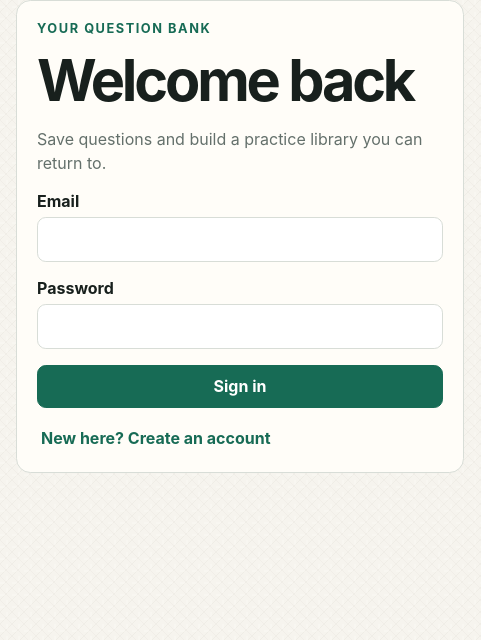
Test case: signs up and shows the confirmation state without a session
Click the button "New here? Create an account": (156, 438) [37,424,274,452]
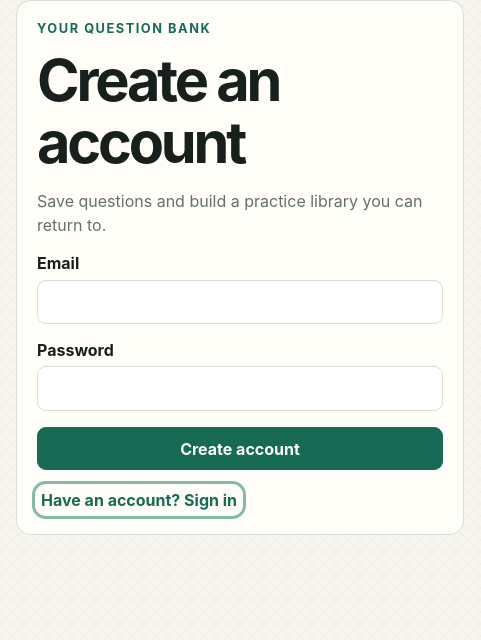
In the field labelled "Email": (240, 302) [37,280,443,324], type "person@example.com"
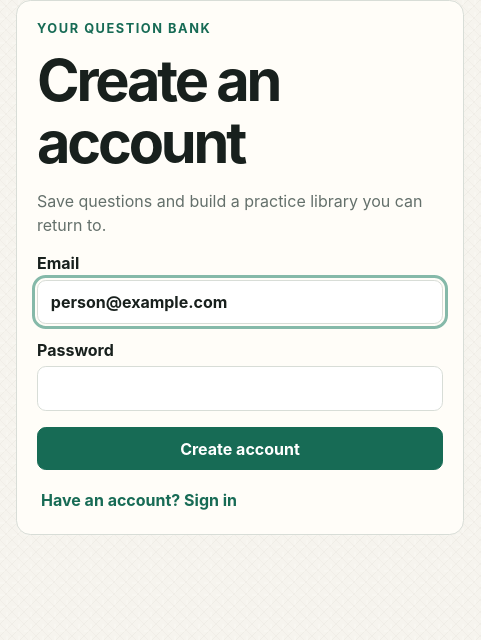
In the password field labelled "Password": (240, 388) [37,366,443,411], type "secret123"
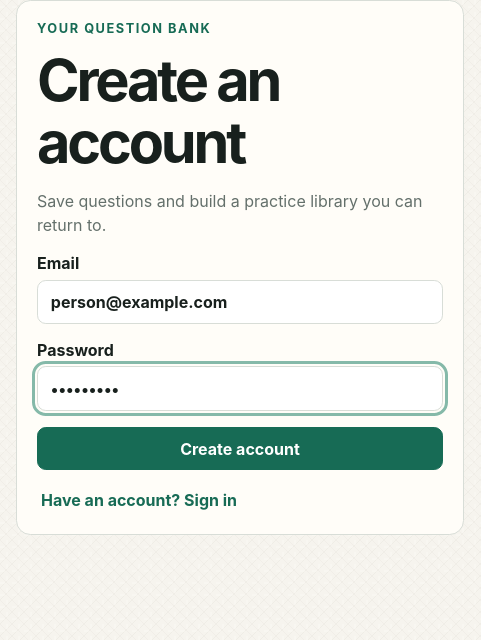
Click the button "Create account": (240, 449) [37,427,443,470]
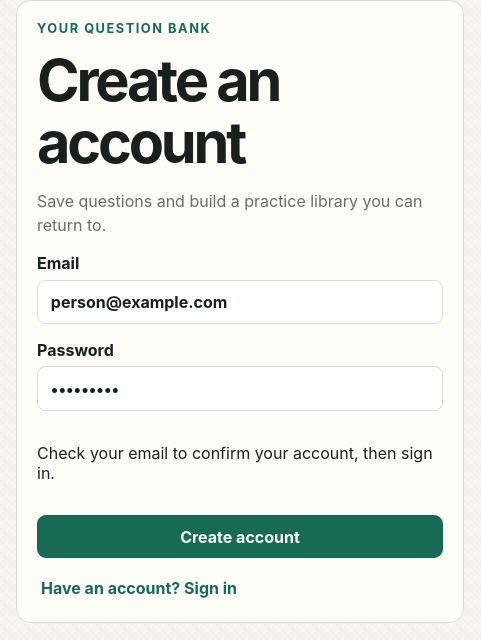
Result: the message shows "Check your email" at [37,443,433,483]
